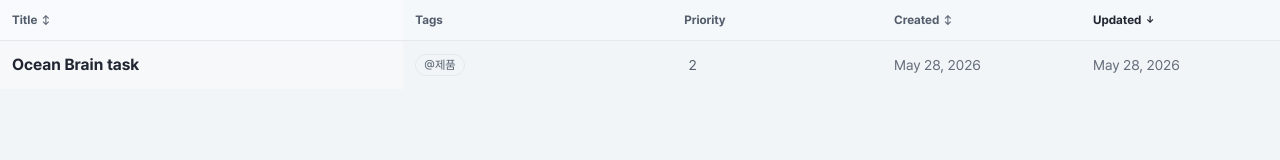
Test: editing table properties › saves numeric zero without navigating away from the table
The width and height of the screenshot is (1280, 160).
Click the button named "Edit Priority for Ocean Brain task" at x=777, y=65, box 684,53 -> 870,77
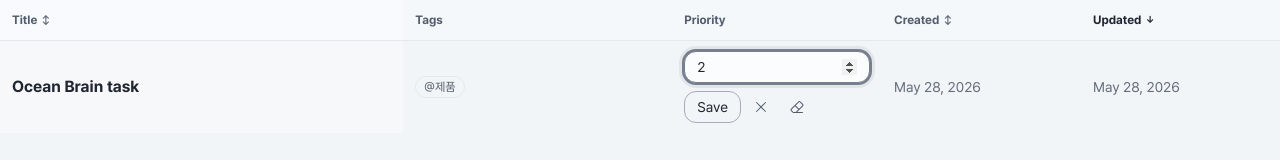
Replace the text in the number field named "Priority value" with "0" at x=777, y=67, box 684,51 -> 870,83
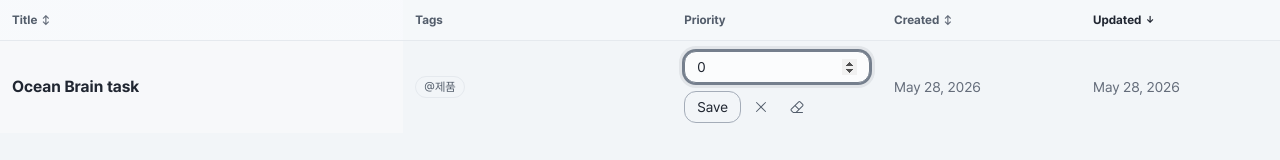
Press Enter
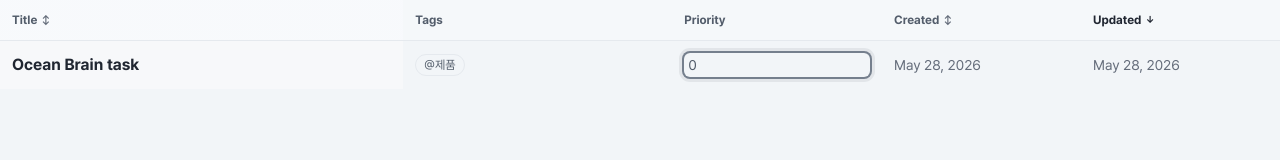
Result: the button named "Edit Priority for Ocean Brain task" reads "0" at 684,53 -> 870,77
